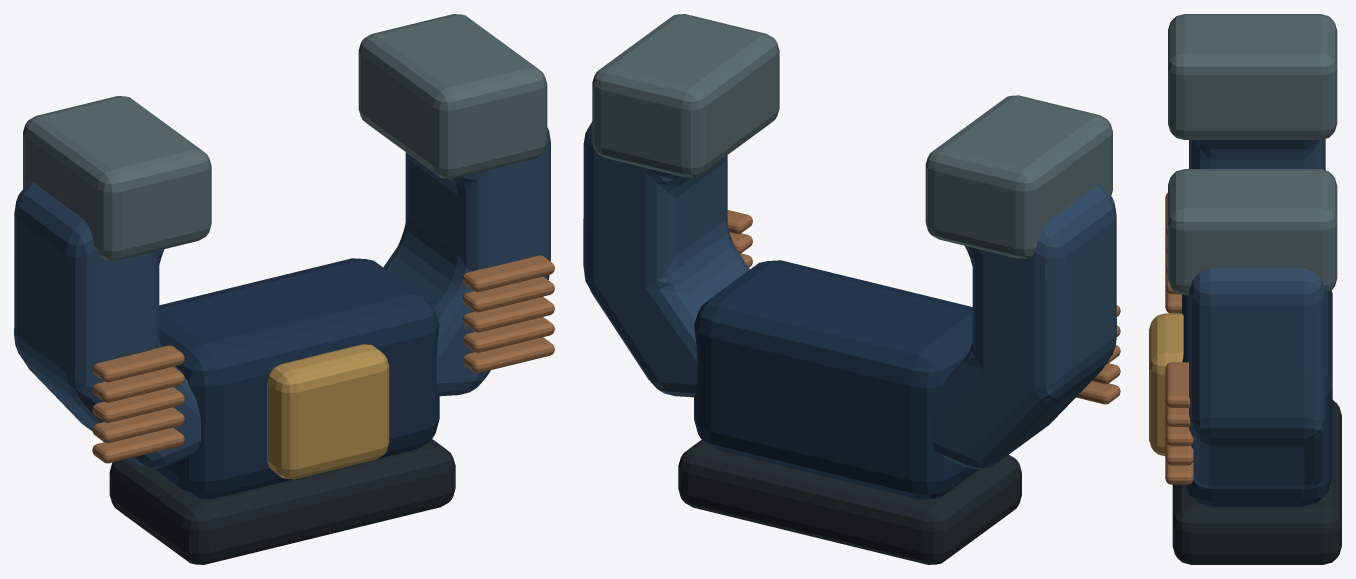
The model's file is MAGNET_PICKUP.hi.glb.
3 views of the same model, side by side, from view 1: azimuth 30°, elevation 25°; view 2: azimuth 150°, elevation 25°; view 3: azimuth 270°, elevation 25° (orthographic). The views are drawn at different scales.
Visible parts, largest first — view 1: Body_Mesh; view 2: Body_Mesh; view 3: Body_Mesh.
Part boxes in pixels (x1,y1,x2,y2): Body_Mesh: (14, 14, 554, 564); Body_Mesh: (583, 14, 1120, 564); Body_Mesh: (1149, 14, 1341, 564).
Size of the model in its own units: 1.12 by 0.93 by 0.41.
